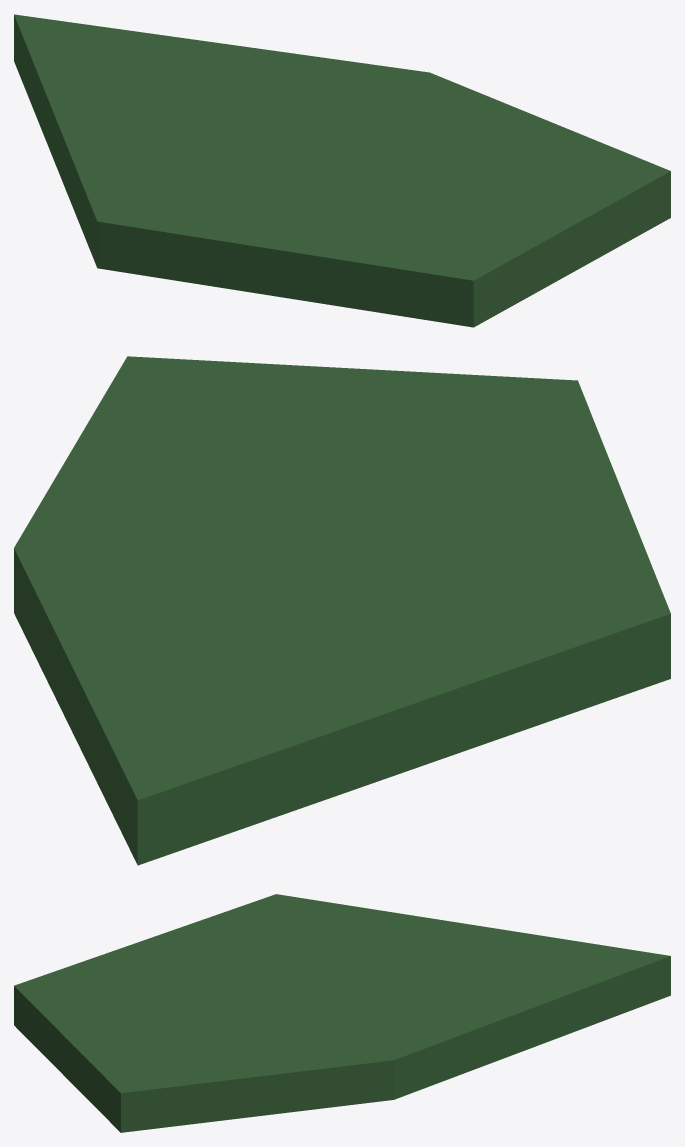
File: x_proval_00_204_1_rmstrd.fbx
3 views of the same model, one above another, from view 1: azimuth 30°, elevation 25°; view 2: azimuth 150°, elevation 25°; view 3: azimuth 270°, elevation 25° (orthographic). The views are drawn at different scales.
Parts seen in each view (by area): view 1: x_proval_00_204_1_rmstrd1; view 2: x_proval_00_204_1_rmstrd1; view 3: x_proval_00_204_1_rmstrd1.
Boxes of the visible parts, x1=… form: x_proval_00_204_1_rmstrd1: x1=14, y1=14, x2=670, y2=327; x_proval_00_204_1_rmstrd1: x1=14, y1=356, x2=670, y2=865; x_proval_00_204_1_rmstrd1: x1=14, y1=894, x2=670, y2=1132.
Size of the model in its own units: 2.16 by 0.2 by 3.
